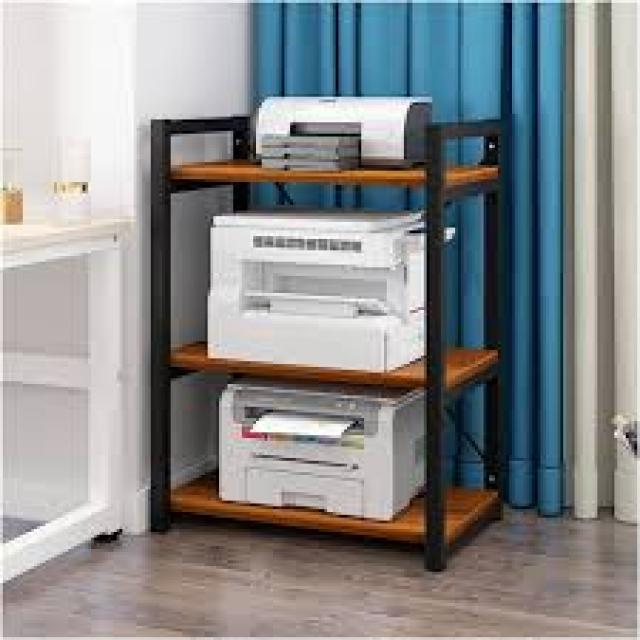printer: (205, 205, 455, 372), (216, 376, 427, 520)
